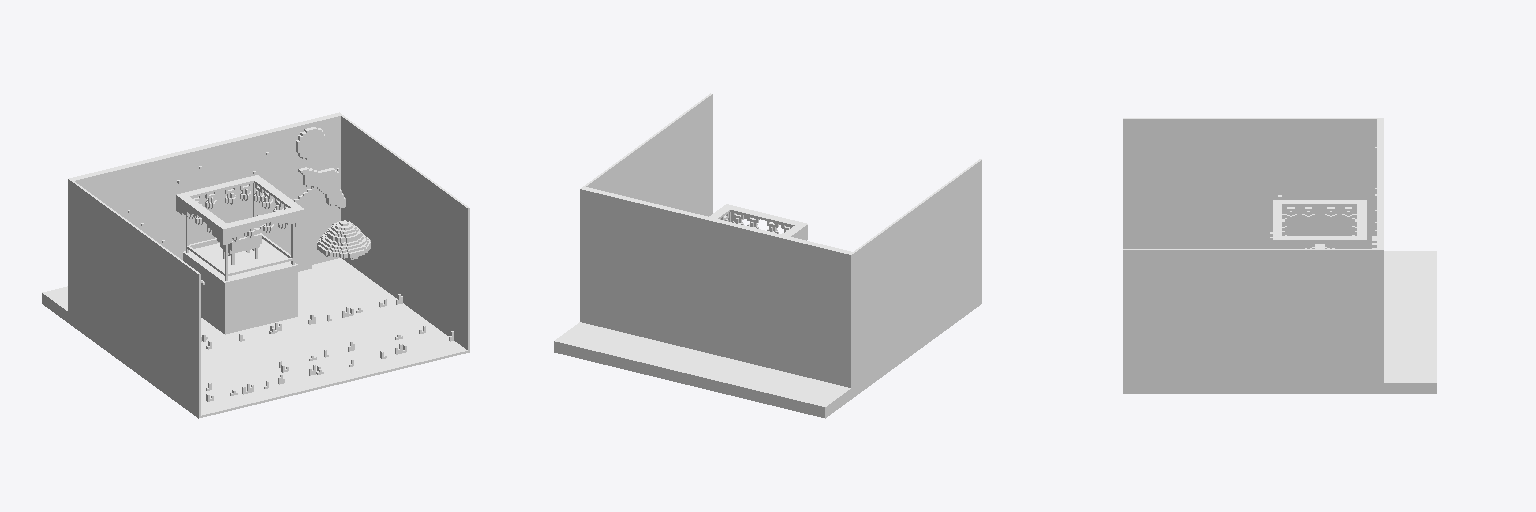
File: fild.obj
3 renders of one model, left to right at view 1: azimuth 30°, elevation 25°; view 2: azimuth 150°, elevation 25°; view 3: azimuth 270°, elevation 25°, orthographic.
Bounding box in the file's own units: 126 × 64 × 126.